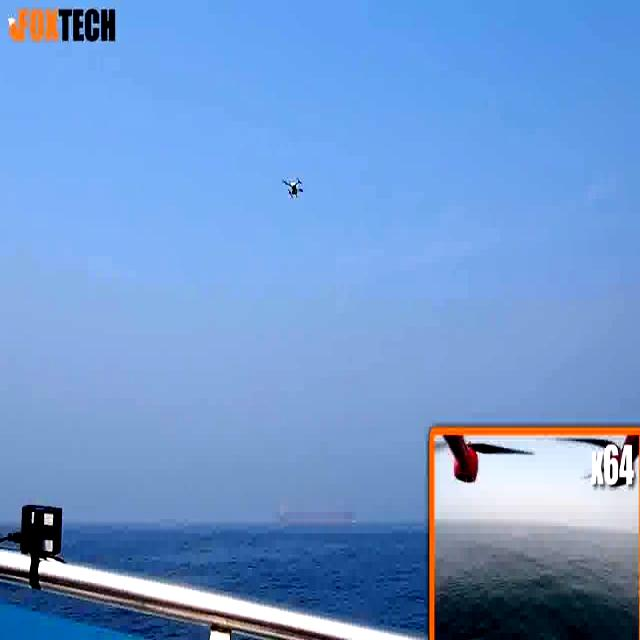drone: (280, 169, 306, 203)
